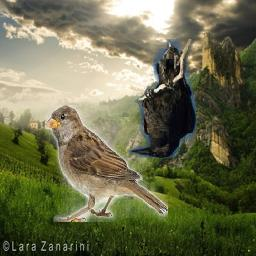Crow: (130, 40, 197, 159)
Sparrow: (46, 106, 169, 223)
